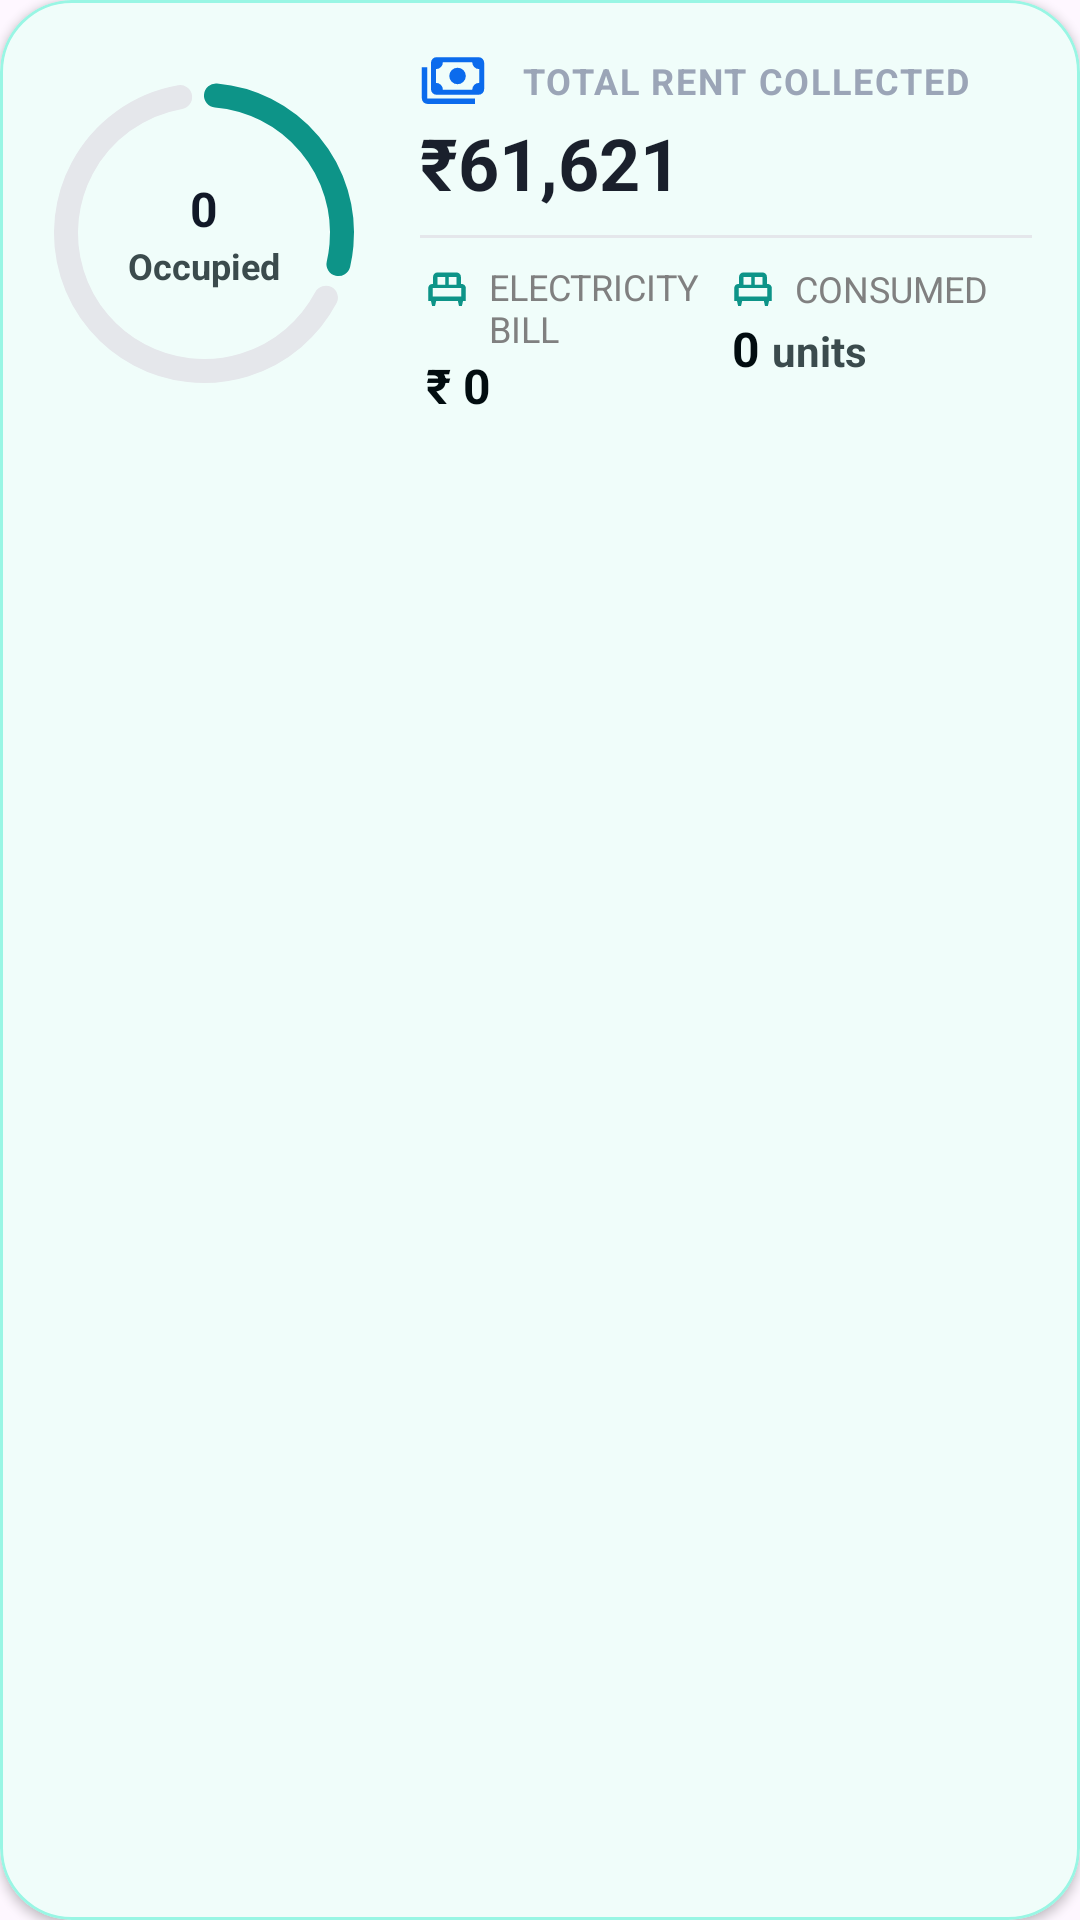

Icons on this 1080*1920 Android screen, each with its box as rect(x1, y1, x2, y2):
cash payment: rect(421, 57, 485, 104)
single bed: rect(428, 272, 466, 306), rect(734, 272, 772, 306)
